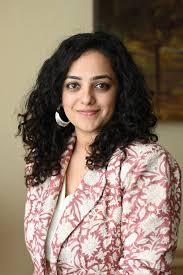Human: (12, 20, 175, 273)
